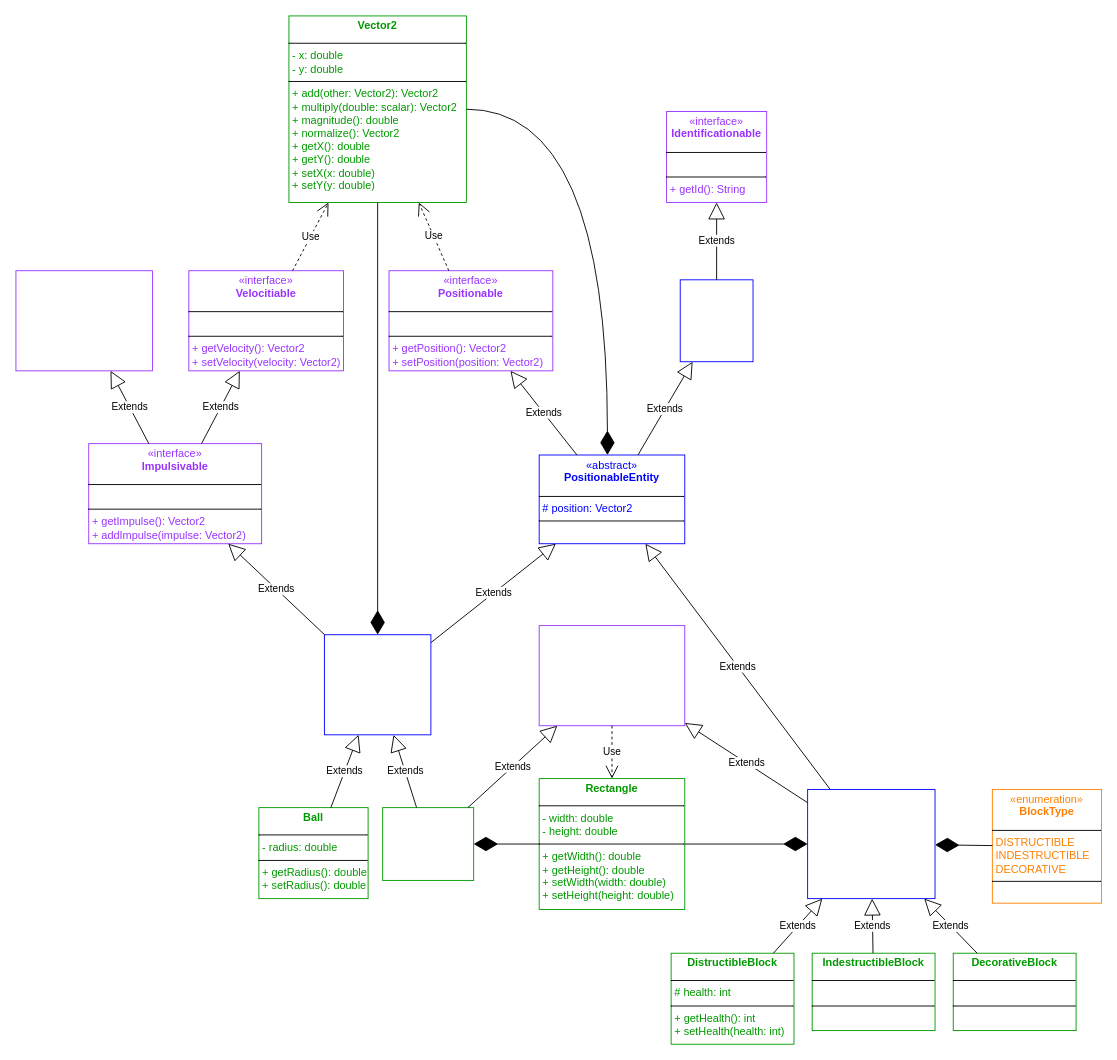
Some shapes in this 1117 by 1060 pixel diagram are drawn without their labels. The shapes that lost their labels are listed below. From the top down, each one's box as (x1, y1, x2, y2) in pixels, then its label:
(15, 270, 152, 371): «interface » Massable + getMass(): double + setMass(mass: double)
(679, 279, 753, 362): «abstract » Entity - id: String
(324, 634, 431, 735): «abstract » MovableEntity # velocity: Vector2 # mass: double
(538, 625, 685, 726): «interface » Measurable + getSize(): Rectangle + setSize(size: Rectangle)
(382, 807, 474, 880): Paddle - size: Rectangle
(807, 789, 935, 899): «abstract » Block # size: Rectangle # type: BlockType + getType(): BlockType
